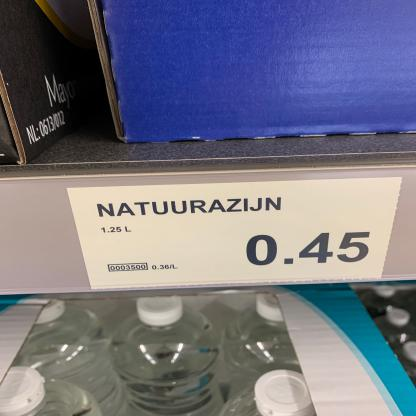prtg: (68, 178, 403, 292)
